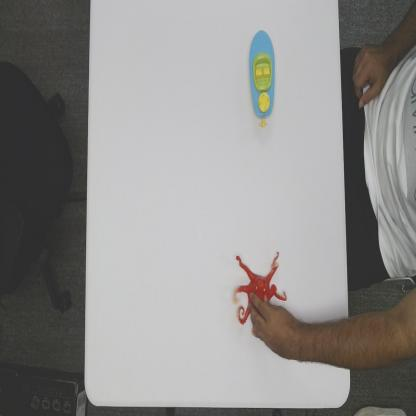Boat: (250, 27, 278, 127)
Hand: (250, 291, 300, 363)
Octopus: (229, 252, 291, 322)
